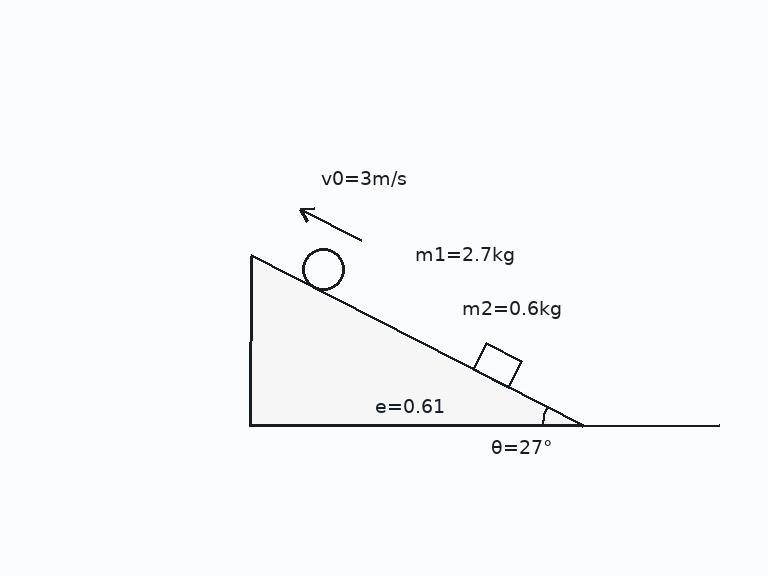ball: (300, 246, 346, 292)
block: (471, 341, 523, 389)
ramp: (249, 254, 585, 427)
